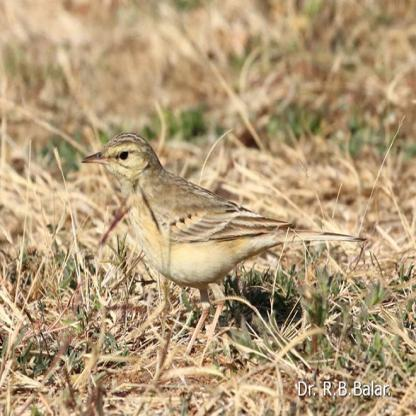Burung: (80, 132, 368, 324)
